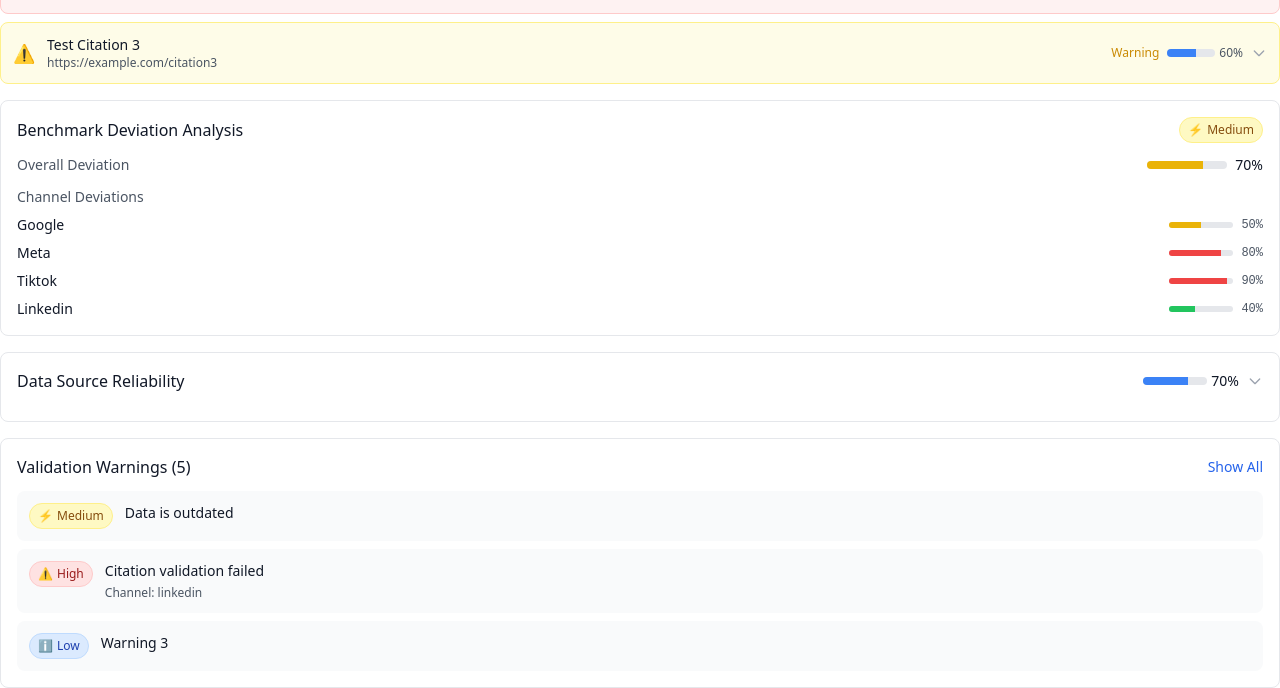
DataQualityPanel › Validation Warnings › handles show all/show less for many warnings
This screenshot has width=1280, height=688.
(page scrolled)
Click the button "Show All" at x=1235, y=467, box [1208, 457, 1263, 477]
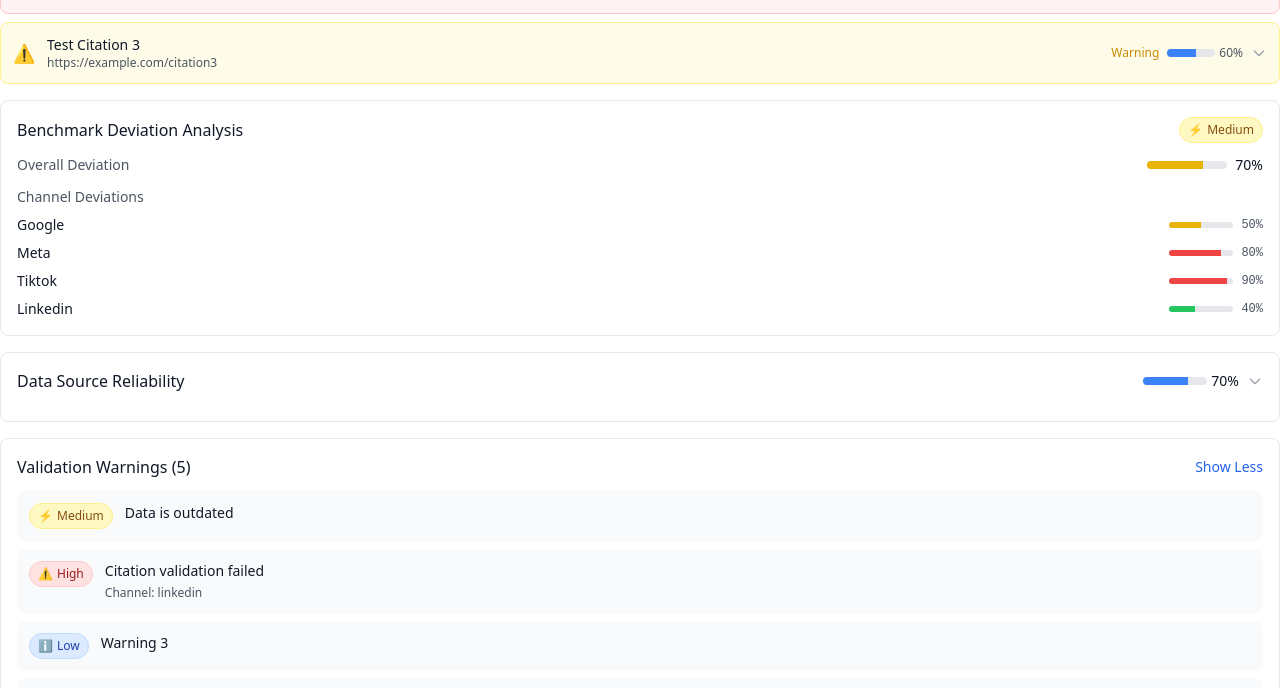
Check: the button "Show Less" is shown, box [1195, 457, 1263, 477]
